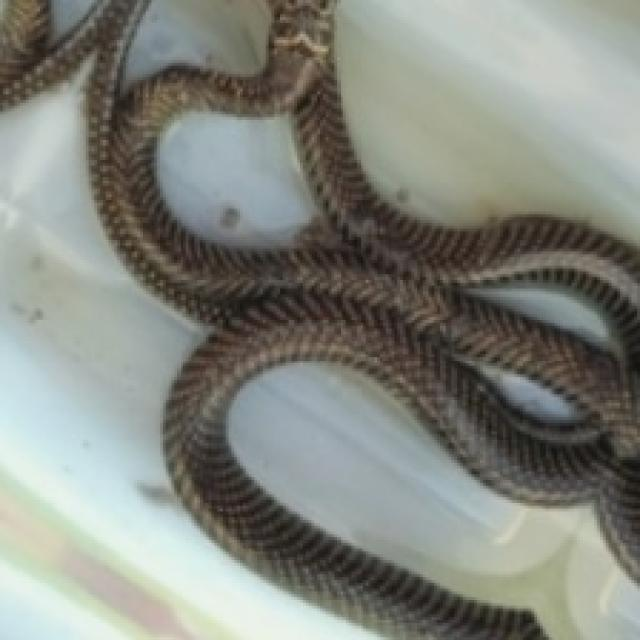paradise tree snake: (0, 80, 374, 637), (286, 209, 637, 423), (414, 426, 637, 637), (140, 157, 257, 311), (360, 437, 400, 486), (137, 129, 157, 157)
